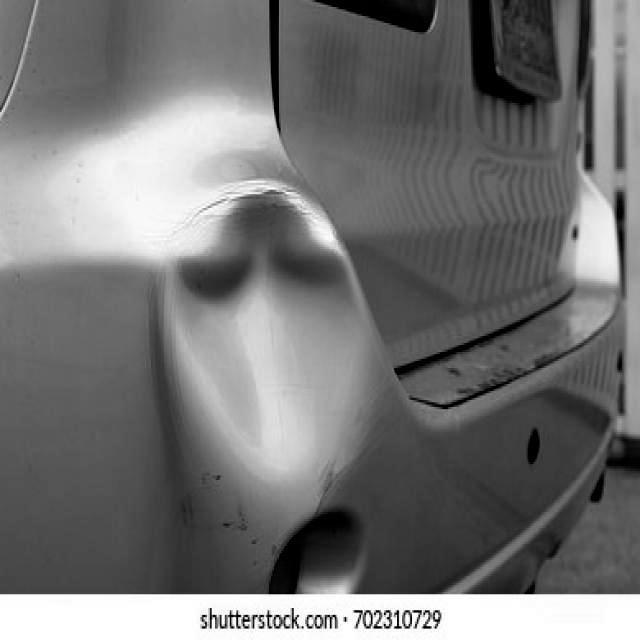rear-bumper-dent: (153, 161, 389, 510)
